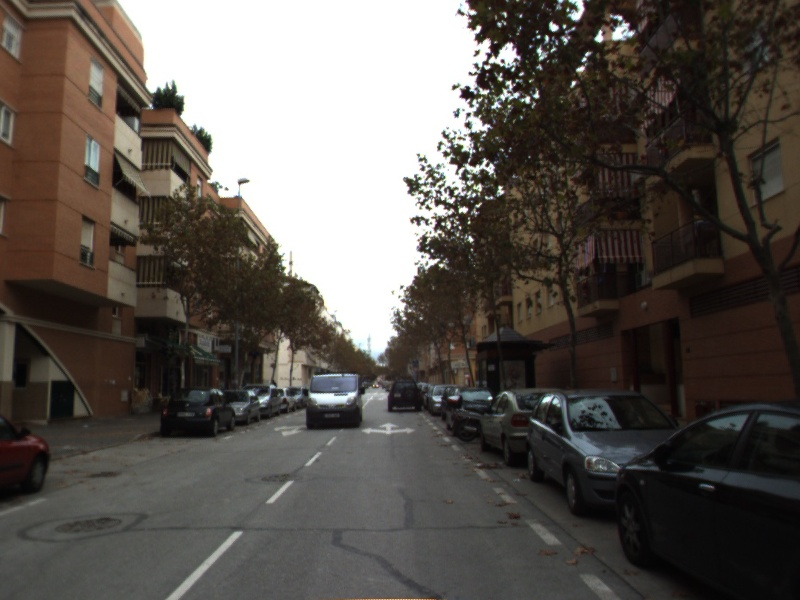STRAIGHT_LEFT_RIGHT: (359, 420, 418, 436)
